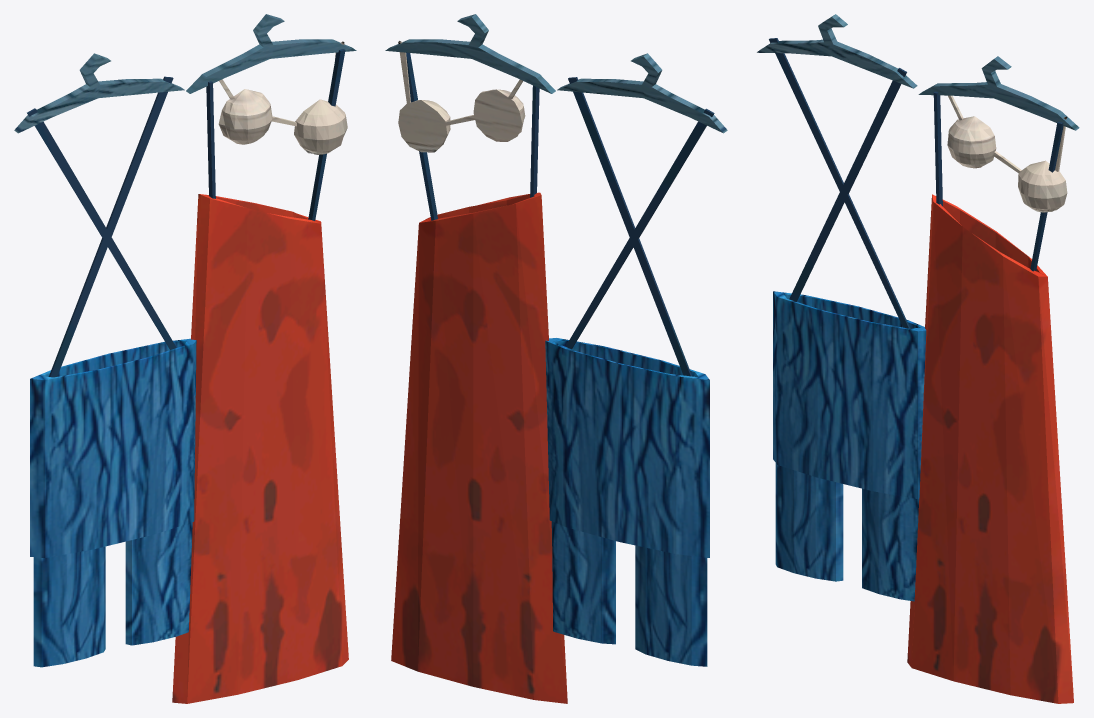
Rendered from Clothes.glb.
3 views of the same model, side by side, from view 1: azimuth 30°, elevation 25°; view 2: azimuth 150°, elevation 25°; view 3: azimuth 330°, elevation 25° (orthographic). The views are drawn at different scales.
Parts seen in each view (by area): view 1: Clothes; view 2: Clothes; view 3: Clothes.
Part boxes in pixels (x1,y1,x2,y2): Clothes: (14, 14, 356, 703); Clothes: (385, 14, 727, 703); Clothes: (757, 14, 1079, 703).
Size of the model in its own units: 234 by 440 by 24.69.
1 material, 1 textured.
